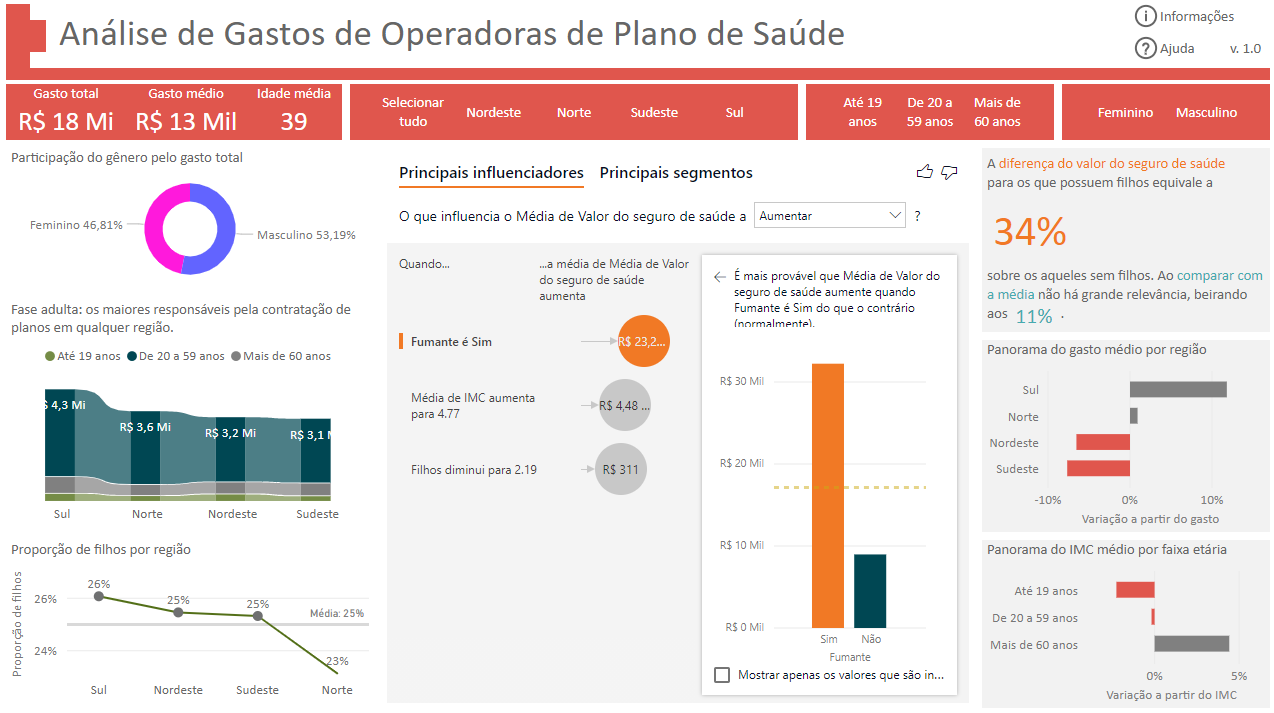

What the dashboard file says about the page in this screenshot:
{"tool":"powerbi","page":{"name":"Dashboard de gastos","canvas":[1280,720],"ordinal":0},"visuals":[{"type":"basicShape","box":[8,72,1264,12],"z":0},{"type":"card","fields":{"Values":["Medidas.%Dif pais/semfilhos"]},"box":[984,200,96,64],"z":0,"group":"g1"},{"type":"basicShape","box":[8,8,24,64],"z":1000},{"type":"textbox","box":[984,152,264,48],"z":1000,"group":"g1"},{"type":"textbox","box":[56,8,1080,56],"z":2000},{"type":"textbox","box":[984,264,288,72],"z":2000,"group":"g1"},{"type":"basicShape","box":[8,24,40,32],"z":3000},{"type":"card","fields":{"Values":["Medidas.%Dif media pais/semfilhos"]},"box":[1008,304,56,32],"z":3000,"group":"g1"},{"type":"actionButton","box":[1136,8,136,24],"z":4000},{"type":"actionButton","box":[1136,40,88,24],"z":5000},{"type":"slicer","fields":{"Values":["Seguro de saúde.Região"]},"box":[352,88,448,56],"z":6000},{"type":"slicer","fields":{"Values":["Seguro de saúde.Faixa de idades"]},"box":[808,88,248,56],"z":7000},{"type":"card","title":"Idade média","fields":{"Values":["Avg(Seguro de saúde.Idade)"]},"box":[248,88,96,56],"z":8000},{"type":"card","title":"Gasto médio","fields":{"Values":["Avg(Seguro de saúde.Valor do seguro de saúde)"]},"box":[128,88,120,56],"z":9000},{"type":"card","title":"Gasto total","fields":{"Values":["Sum(Seguro de saúde.Valor do seguro de saúde)"]},"box":[8,88,120,56],"z":10000},{"type":"ribbonChart","title":"Fase adulta: os maiores responsáveis pela contratação de planos em qualquer região.","fields":{"Category":["Seguro de saúde.Região"],"Y":["Sum(Seguro de saúde.Valor do seguro de saúde)"],"Series":["Seguro de saúde.Faixa de idades"]},"box":[8,304,368,232],"z":11000},{"type":"actionButton","box":[1232,40,40,24],"z":12000},{"type":"lineChart","title":"Proporção de filhos por região","fields":{"Category":["Seguro de saúde.Região"],"Y":["Divide(Sum(Seguro de saúde.Filhos), ScopedEval(Sum(Seguro de saúde.Filhos), []))"]},"box":[8,544,368,168],"z":13000},{"type":"slicer","fields":{"Values":["Seguro de saúde.Sexo"]},"box":[1064,88,208,56],"z":14000},{"type":"group","id":"g1","title":"Grupo 1","box":[984,152,288,184],"z":15000},{"type":"donutChart","title":"Participação do gênero pelo gasto total","fields":{"Y":["Divide(Sum(Seguro de saúde.Valor do seguro de saúde), ScopedEval(Sum(Seguro de saúde.Valor do seguro de saúde), []))"],"Series":["Seguro de saúde.Sexo"]},"box":[8,152,368,144],"z":16000},{"type":"clusteredBarChart","title":"Panorama do gasto médio por região","fields":{"Category":["Seguro de saúde.Região"],"Y":["Medidas.KPI Media_regiao"]},"box":[984,344,288,192],"z":17000},{"type":"clusteredBarChart","title":"Panorama do IMC médio por faixa etária","fields":{"Y":["Medidas.KPI Media_IMC_faixa"],"Category":["Seguro de saúde.Faixa de idades"]},"box":[984,544,288,168],"z":18000},{"type":"keyDriversVisual","fields":{"Target":["Avg(Seguro de saúde.Valor do seguro de saúde)"],"ExplainBy":["Seguro de saúde.Sexo","Seguro de saúde.Idade","Avg(Seguro de saúde.IMC)","Seguro de saúde.Fumante","Sum(Seguro de saúde.Filhos)","Seguro de saúde.Região"]},"box":[384,152,592,560],"z":19000}]}

Visuals, with their boxes in screenshot pixels (x1, y1, x2, y2), scaled from the page's 1280x720 canvas onto the 1274x713 screenshot:
basicShape: 8,71,1266,83
card - Medidas.%Dif pais/semfilhos: 979,198,1075,261
basicShape: 8,8,32,71
textbox: 979,151,1242,198
textbox: 56,8,1131,63
textbox: 979,261,1266,333
basicShape: 8,24,48,55
card - Medidas.%Dif media pais/semfilhos: 1003,301,1059,333
actionButton: 1131,8,1266,32
actionButton: 1131,40,1218,63
slicer - Seguro de saúde.Região: 350,87,796,143
slicer - Seguro de saúde.Faixa de idades: 804,87,1051,143
"Idade média" card: 247,87,342,143
"Gasto médio" card: 127,87,247,143
"Gasto total" card: 8,87,127,143
"Fase adulta: os maiores responsáveis pela contratação de planos em qualquer região." ribbonChart: 8,301,374,531
actionButton: 1226,40,1266,63
"Proporção de filhos por região" lineChart: 8,539,374,705
slicer - Seguro de saúde.Sexo: 1059,87,1266,143
"Grupo 1" group: 979,151,1266,333
"Participação do gênero pelo gasto total" donutChart: 8,151,374,293
"Panorama do gasto médio por região" clusteredBarChart: 979,341,1266,531
"Panorama do IMC médio por faixa etária" clusteredBarChart: 979,539,1266,705
keyDriversVisual - Avg(Seguro de saúde.Valor do seguro de saúde) x Seguro de saúde.Sexo: 382,151,971,705
